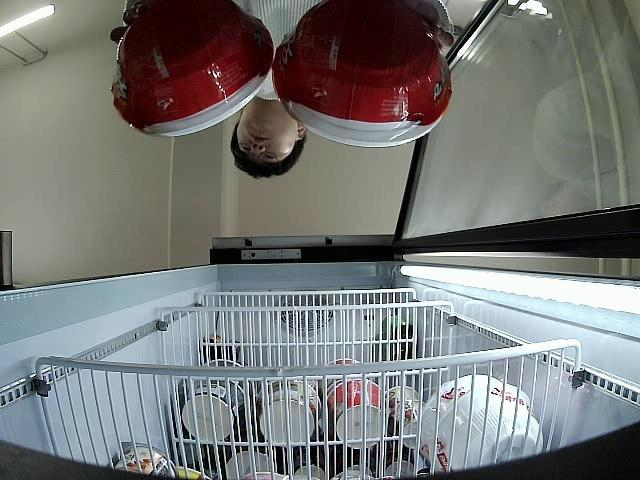10_wangTtukkeong: (273, 0, 452, 147), (112, 0, 272, 135)
